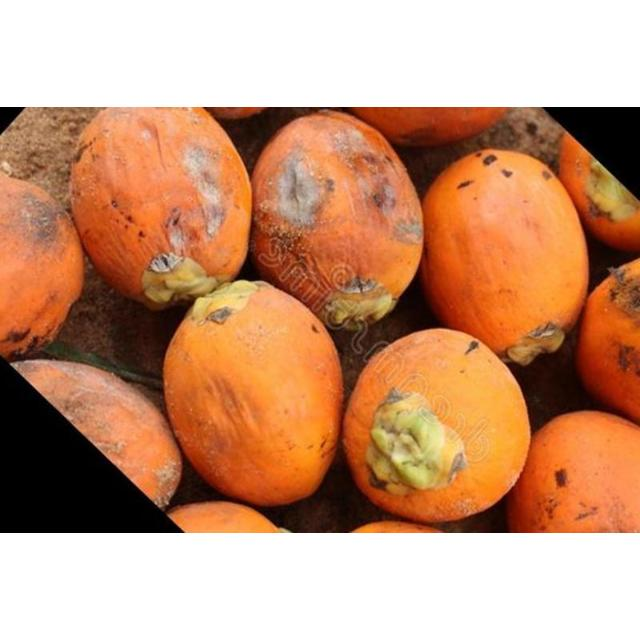good: (161, 278, 349, 511), (417, 149, 590, 368), (341, 330, 532, 526), (501, 411, 639, 533)
